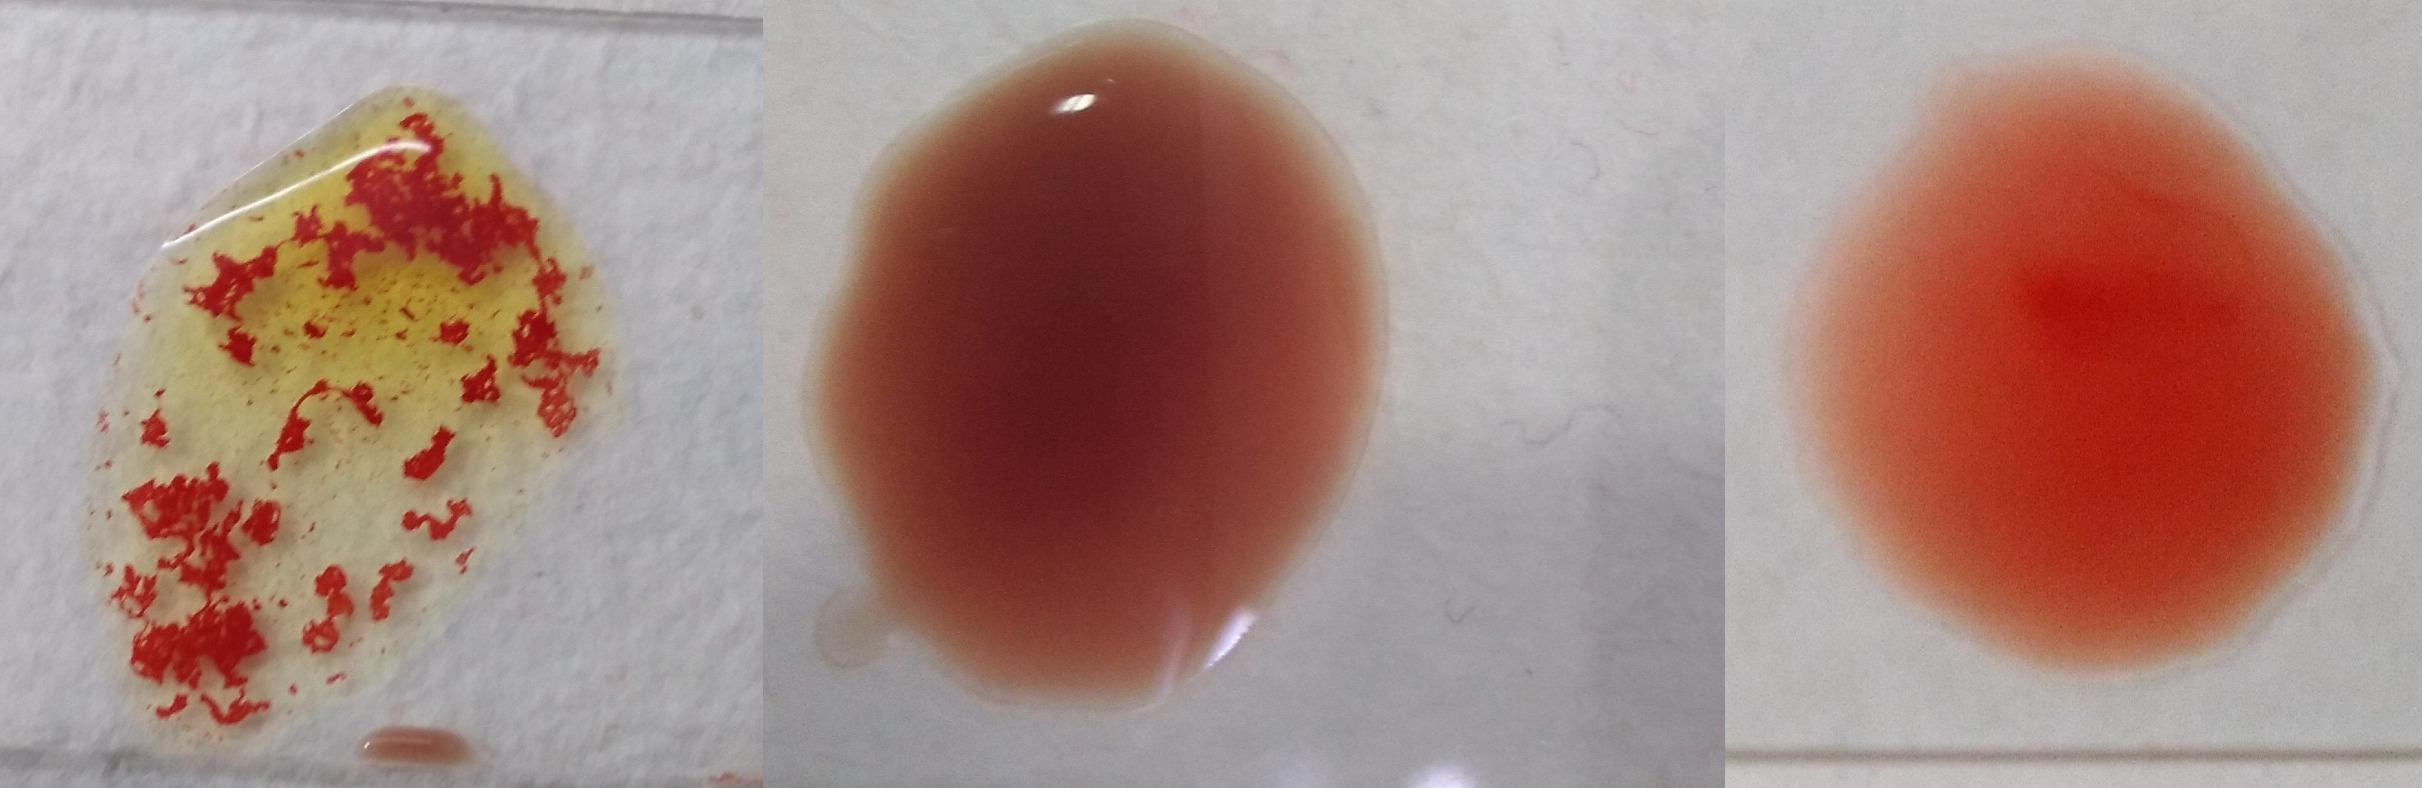B: (96, 65, 590, 751)
